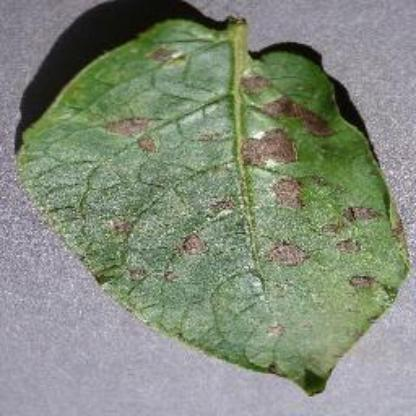Early-Blight: (16, 9, 412, 397)
